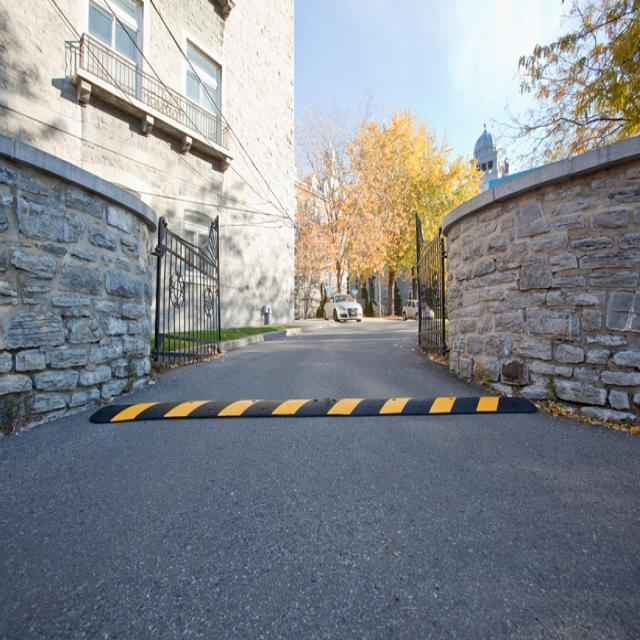speedbreaker: (84, 390, 534, 424)
